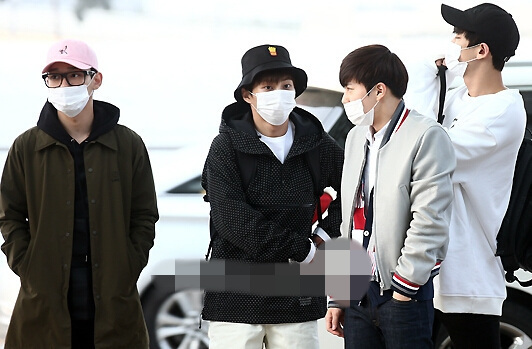face_mask: (46, 60, 92, 118), (254, 74, 295, 125), (341, 73, 374, 126), (446, 26, 475, 80)
